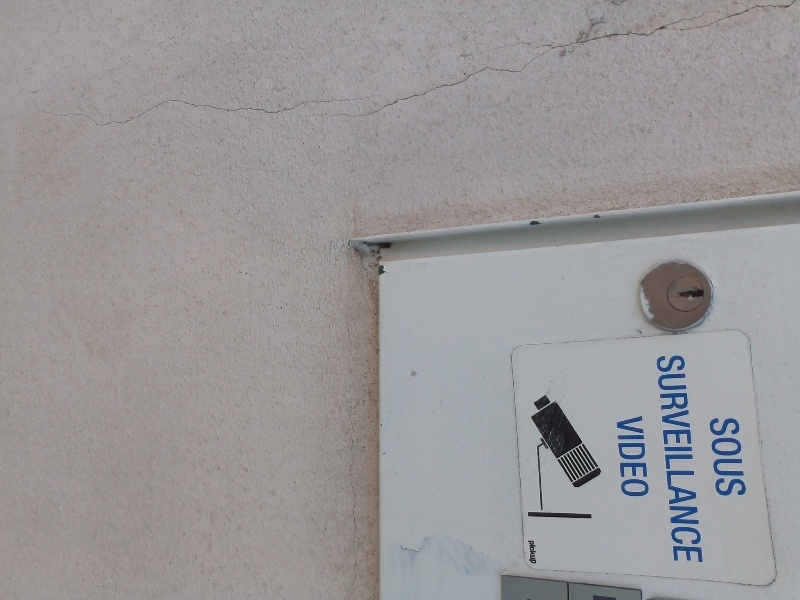text: (657, 352, 672, 569), (673, 352, 688, 569), (689, 352, 704, 569), (625, 415, 640, 499), (721, 416, 736, 497), (708, 416, 720, 497), (737, 416, 749, 497), (641, 415, 651, 499), (615, 415, 624, 499), (653, 352, 656, 569), (705, 352, 706, 569), (529, 541, 538, 565), (527, 541, 528, 565)
